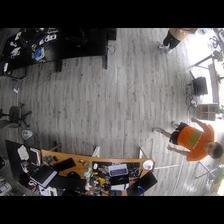normal: (151, 117, 224, 161)
